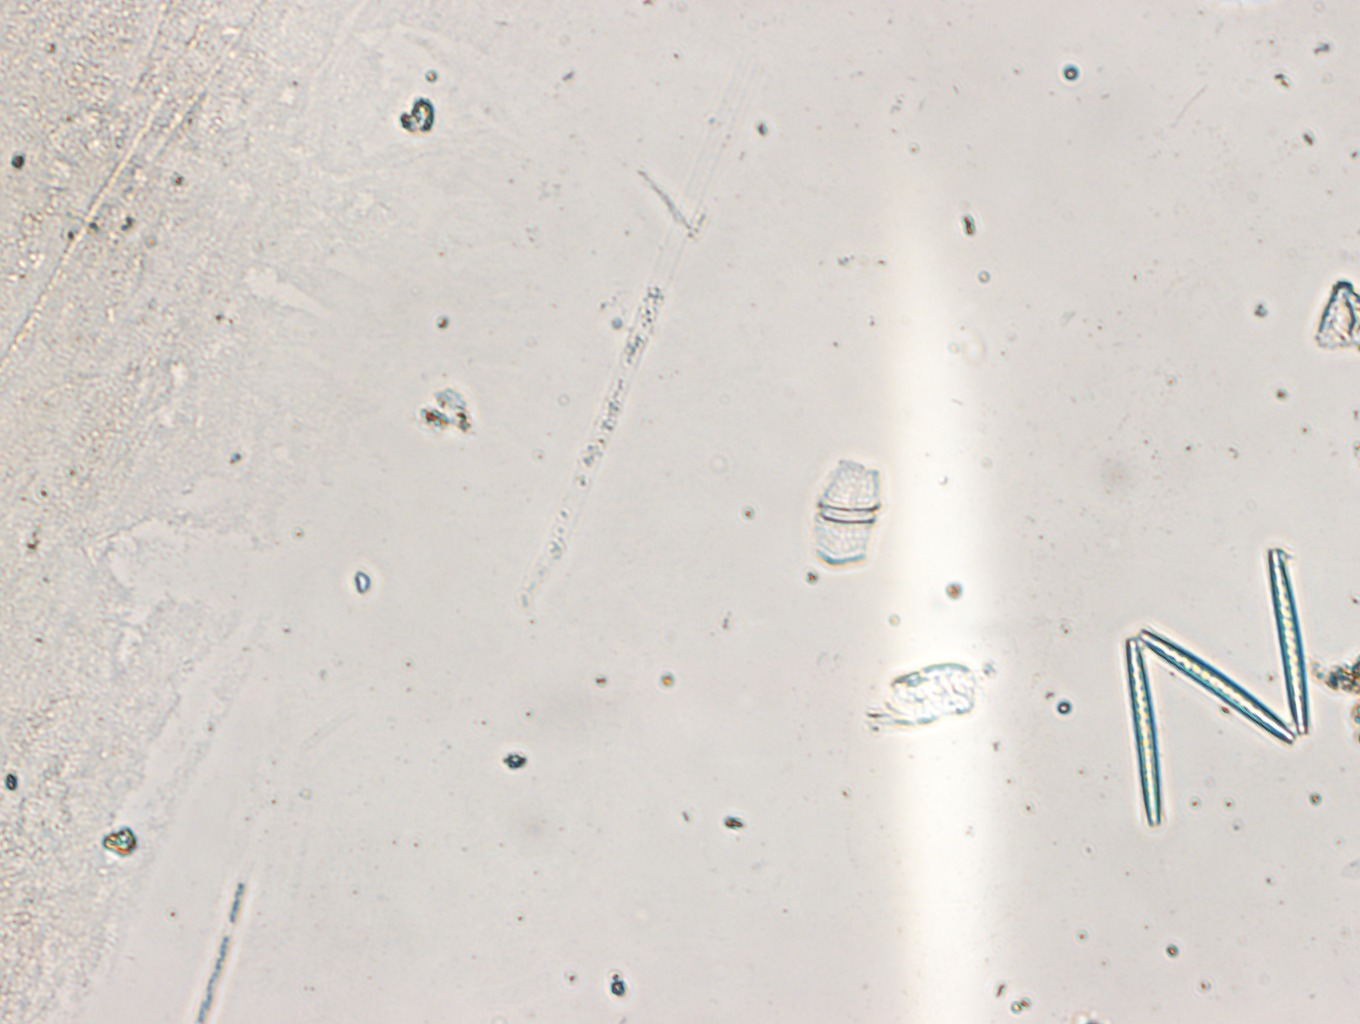thalassionema nitzschioides: (1119, 545, 1325, 834)
